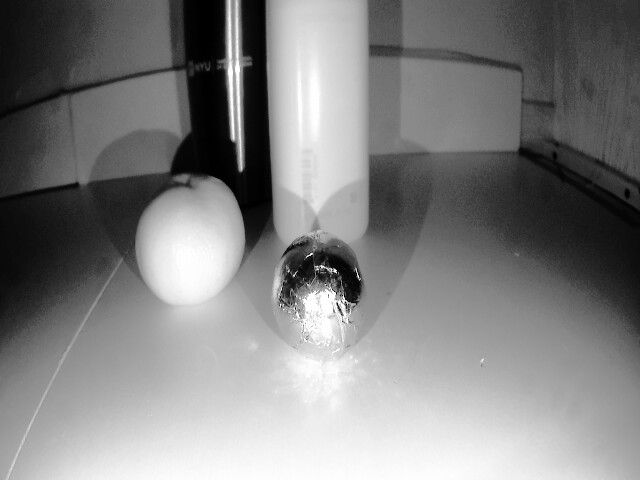silver: (272, 236, 383, 366)
